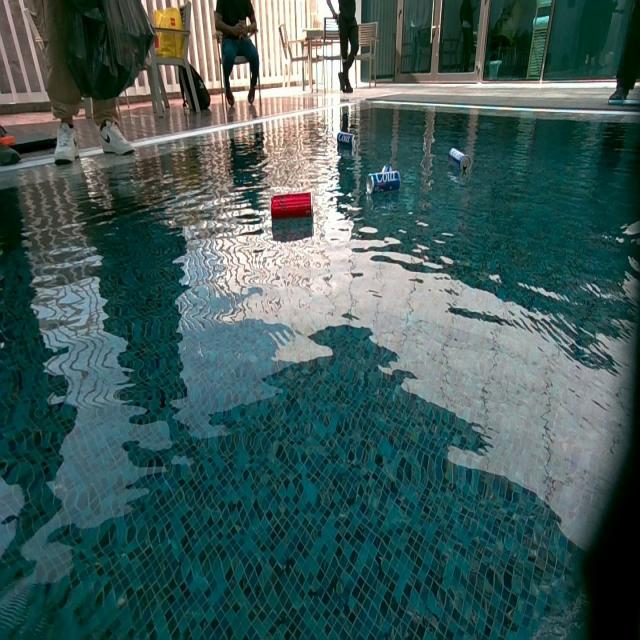Cans: (269, 194, 311, 221), (366, 166, 401, 196), (449, 149, 471, 177), (338, 132, 358, 150)
